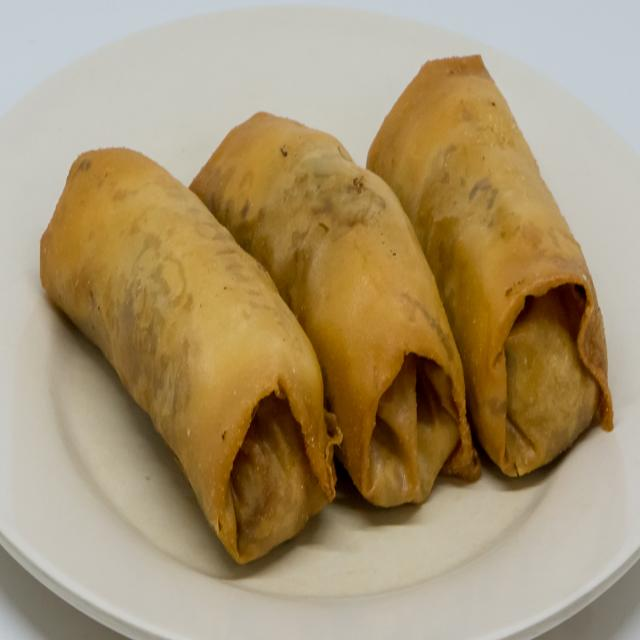Lumpia-Semarang: (29, 37, 628, 582)
